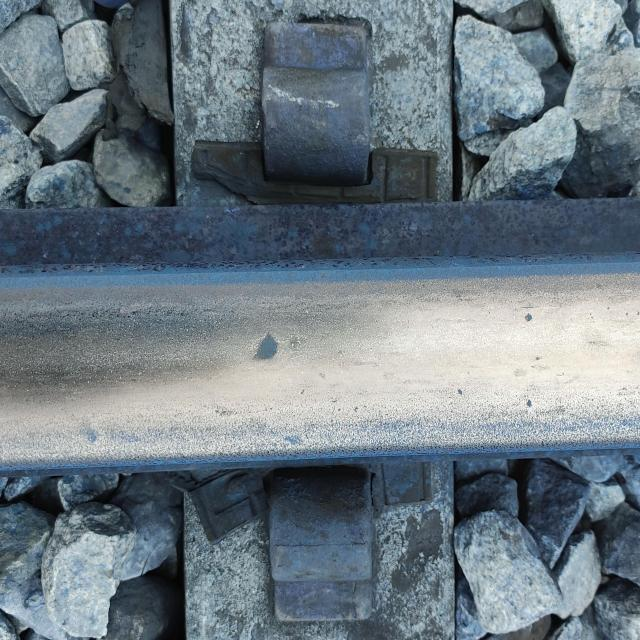Missing Fastener: (197, 8, 396, 227), (216, 461, 430, 630)
